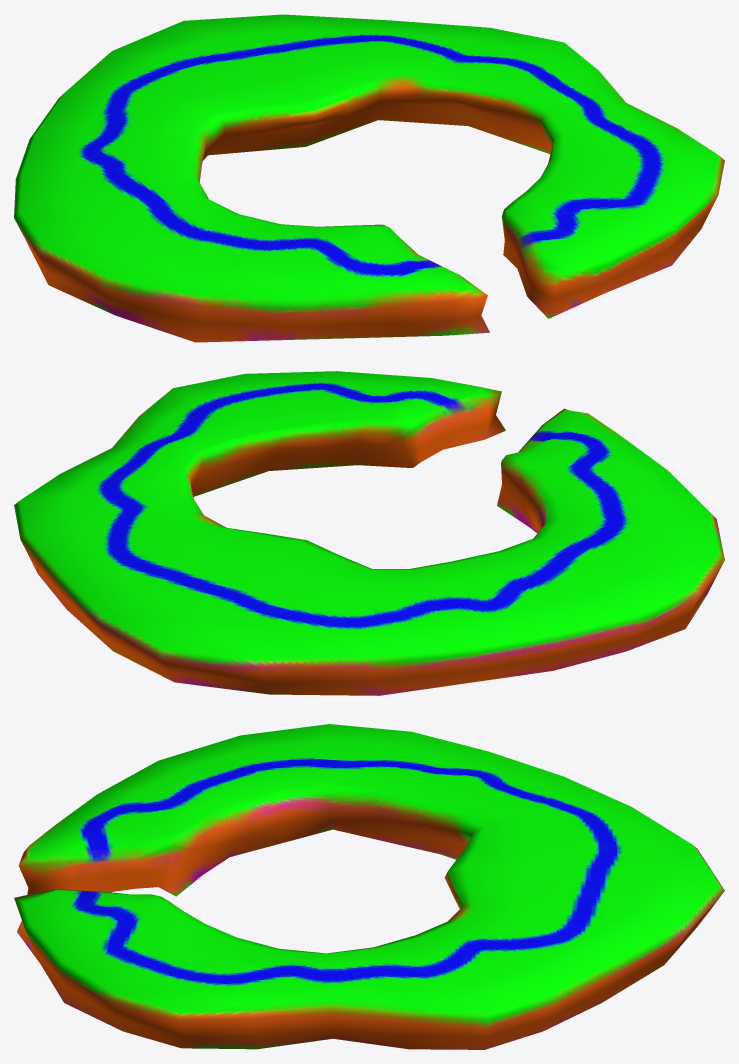
Rendered from PaintedIslandBigShape.dae.
3 renders of one model, top to bottom at view 1: azimuth 30°, elevation 25°; view 2: azimuth 150°, elevation 25°; view 3: azimuth 270°, elevation 25°, orthographic.
Parts seen in each view (by area): view 1: PaintedIslandBig; view 2: PaintedIslandBig; view 3: PaintedIslandBig.
Part boxes in pixels (x1,y1,x2,y2): PaintedIslandBig: [14, 14, 724, 342]; PaintedIslandBig: [14, 371, 724, 695]; PaintedIslandBig: [14, 724, 724, 1049].
Size of the model in its own units: 387 by 39.75 by 395.
